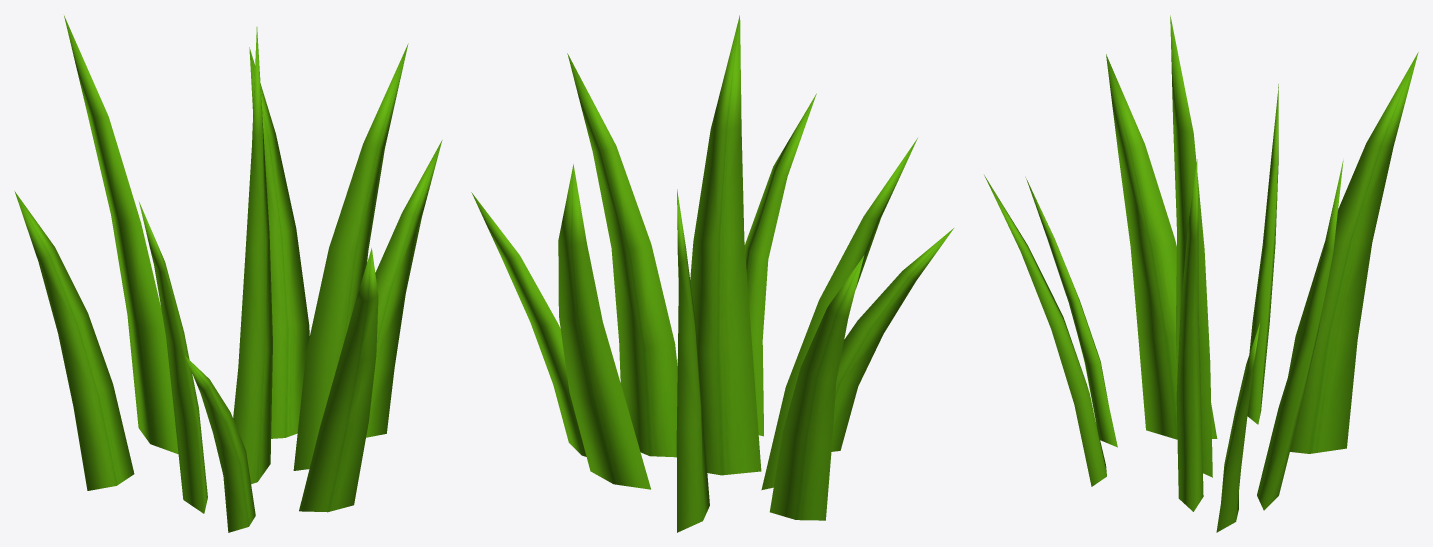
File: GrassShort1.fbx
The picture shows the model from 3 angles, left to right: view 1: azimuth 30°, elevation 25°; view 2: azimuth 150°, elevation 25°; view 3: azimuth 270°, elevation 25°; orthographic projection. The views are drawn at different scales.
Parts seen in each view (by area): view 1: Mesh; view 2: Mesh; view 3: Mesh.
Boxes of the visible parts, x1,y1,x2,y2 form: Mesh: [14, 15, 442, 532]; Mesh: [471, 15, 953, 532]; Mesh: [984, 15, 1418, 532].
Size of the model in its own units: 75.83 by 80.61 by 71.2.
